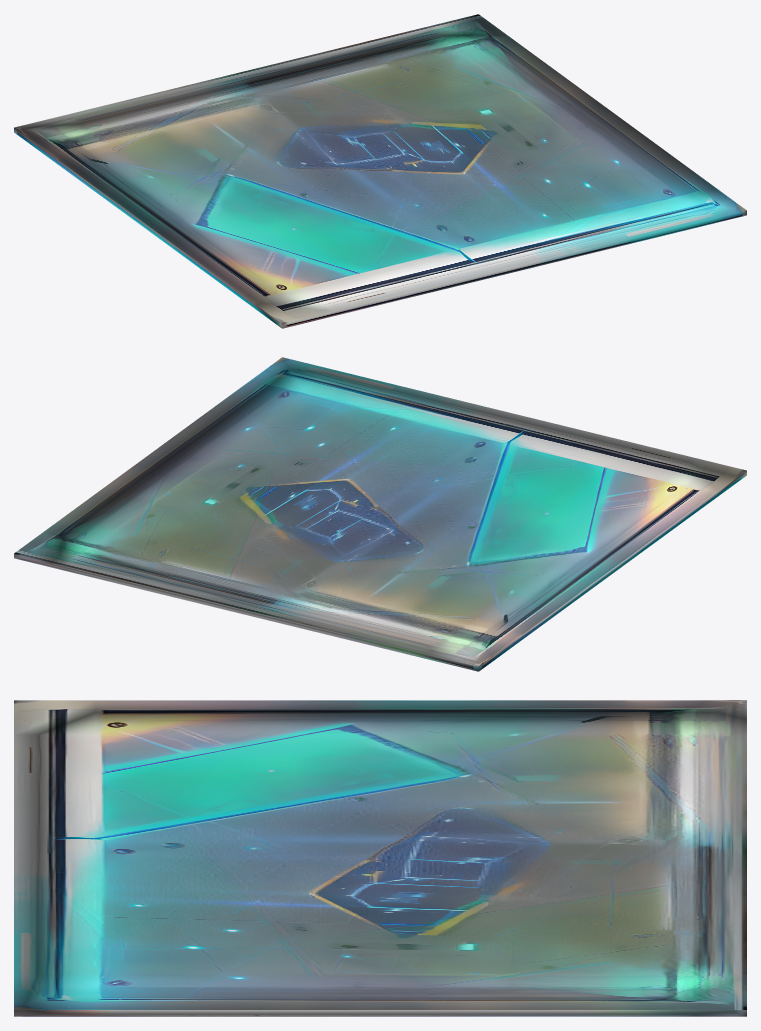
File: residentialBasicFloor.glb
3 renders of one model, top to bottom at view 1: azimuth 30°, elevation 25°; view 2: azimuth 150°, elevation 25°; view 3: azimuth 270°, elevation 25°, orthographic. The views are drawn at different scales.
Parts seen in each view (by area): view 1: residentialBasicFloor; view 2: residentialBasicFloor; view 3: residentialBasicFloor.
Part boxes in pixels (left/top/right/bottom): residentialBasicFloor: left=14, top=14, right=746, bottom=328; residentialBasicFloor: left=14, top=357, right=746, bottom=671; residentialBasicFloor: left=14, top=700, right=746, bottom=1016.
Bounding box in the file's own units: 1 × 0.01 × 1.
1 material, 1 textured.
